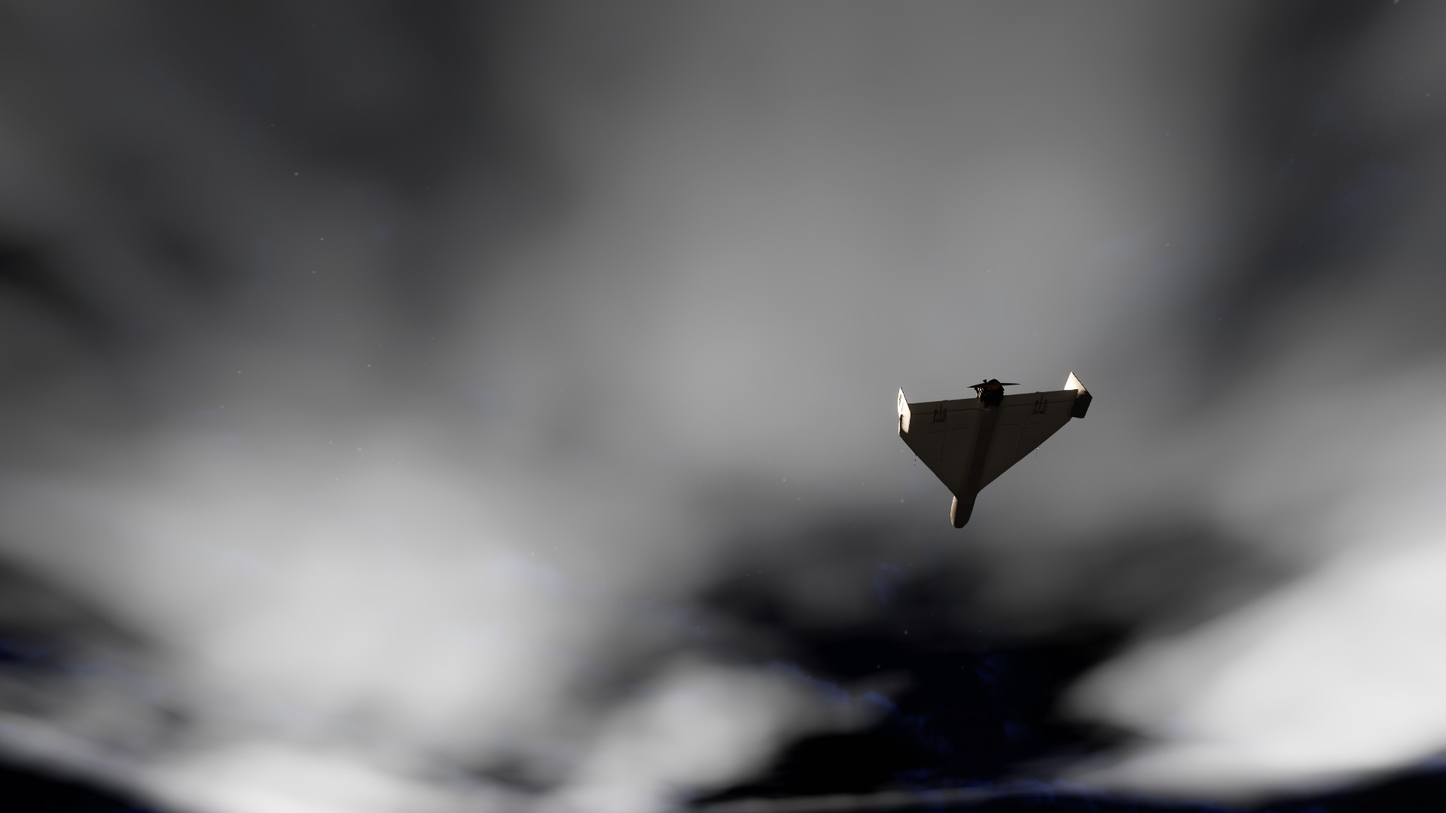shahed: (898, 371, 1093, 529)
